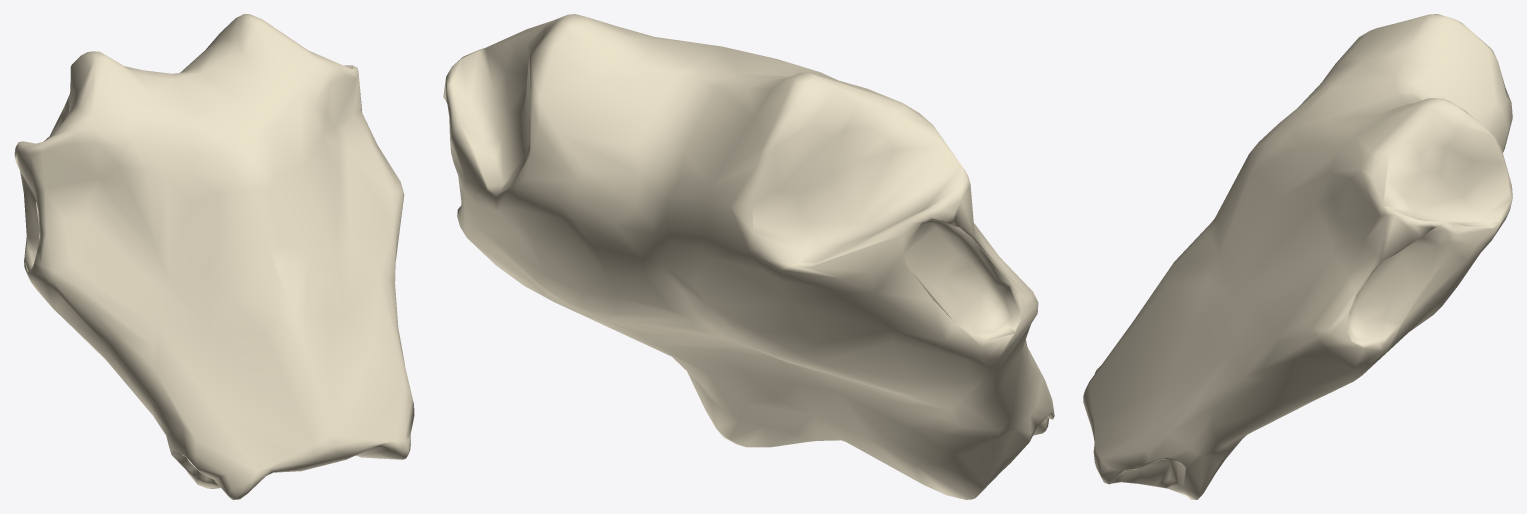
Rendered from esqueleto-manubrium-of-sternum.glb.
The picture shows the model from 3 angles, left to right: view 1: azimuth 30°, elevation 25°; view 2: azimuth 150°, elevation 25°; view 3: azimuth 270°, elevation 25°; orthographic projection. The views are drawn at different scales.
Parts seen in each view (by area): view 1: Manubrium of sternum; view 2: Manubrium of sternum; view 3: Manubrium of sternum.
Part boxes in pixels (x1,y1,x2,y2): Manubrium of sternum: [14, 14, 414, 499]; Manubrium of sternum: [443, 14, 1054, 499]; Manubrium of sternum: [1083, 14, 1512, 499].
Bounding box in the file's own units: 0.0571 × 0.0539 × 0.0522.
